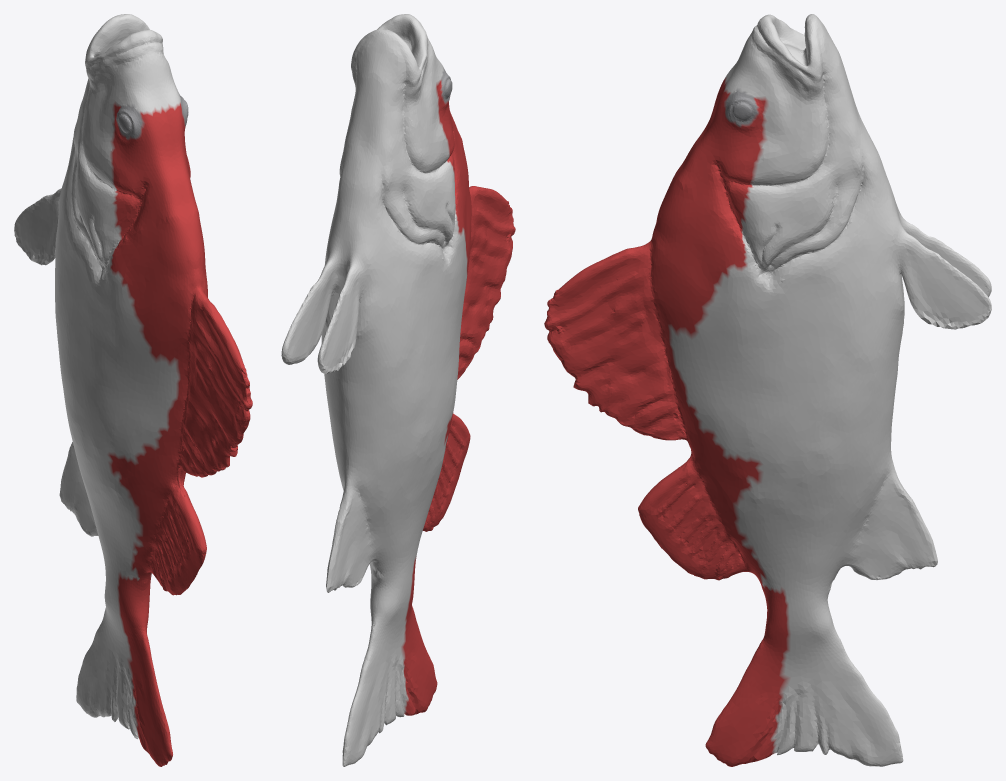
File: fish_more_red.glb
The picture shows the model from 3 angles, left to right: view 1: azimuth 30°, elevation 25°; view 2: azimuth 150°, elevation 25°; view 3: azimuth 270°, elevation 25°; orthographic projection. The views are drawn at different scales.
Bounding box in the file's own units: 0.1873 × 1.38 × 0.748.
